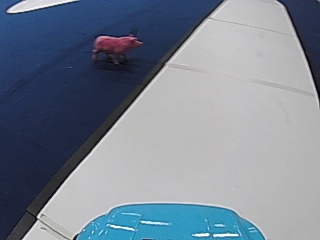pig: (91, 29, 142, 66)
